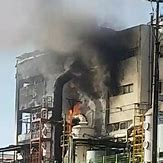smoke: (22, 1, 111, 88)
